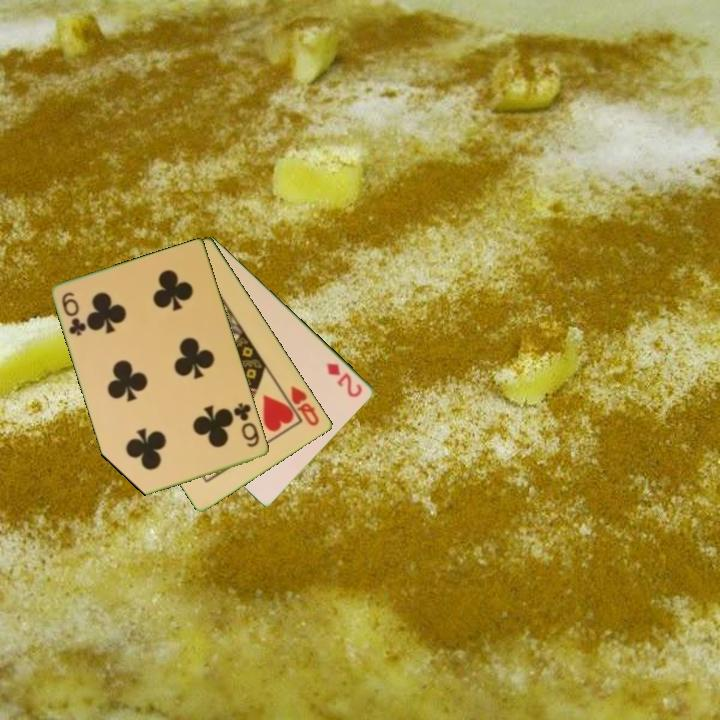2d: (323, 359, 366, 400)
6c: (230, 399, 263, 450), (58, 289, 89, 339)
Qh: (287, 382, 323, 429)
